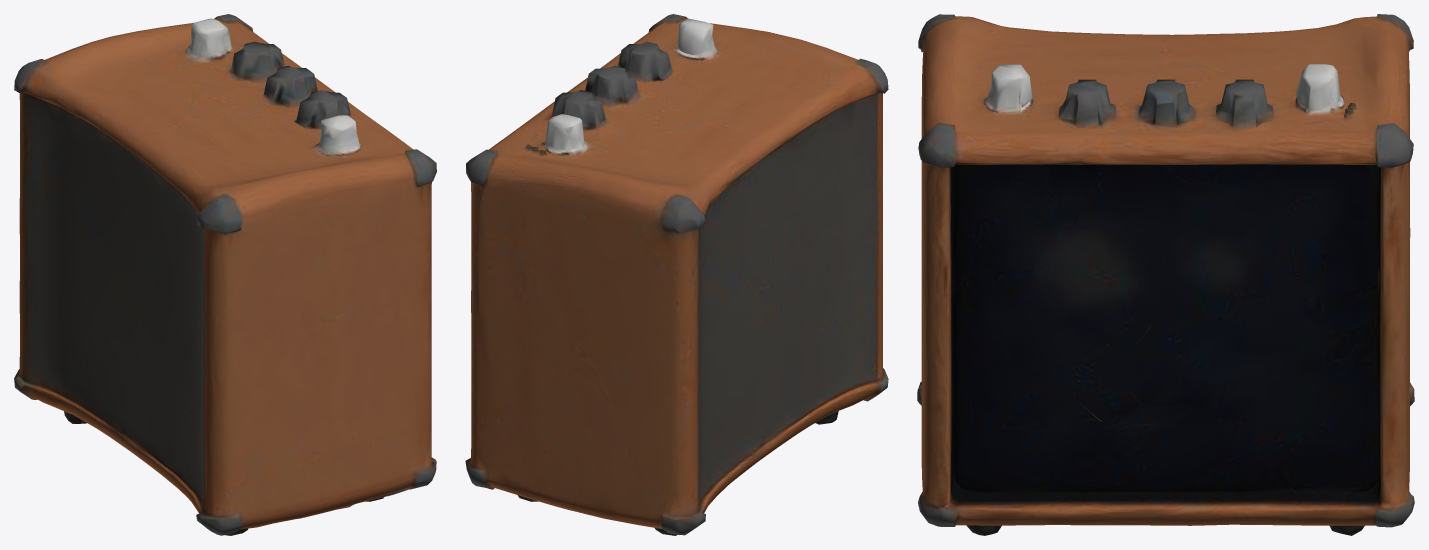
File: amp-v1.glb
3 views of the same model, side by side, from view 1: azimuth 30°, elevation 25°; view 2: azimuth 150°, elevation 25°; view 3: azimuth 270°, elevation 25° (orthographic). The views are drawn at different scales.
Visible parts, largest first — view 1: prop__amp; view 2: prop__amp; view 3: prop__amp.
Boxes of the visible parts, x1,y1,x2,y2 form: prop__amp: (14,14,436,535); prop__amp: (465,14,888,535); prop__amp: (917,14,1414,535).
Size of the model in its own units: 0.2934 by 0.45 by 0.4522.
1 material, 1 textured.
